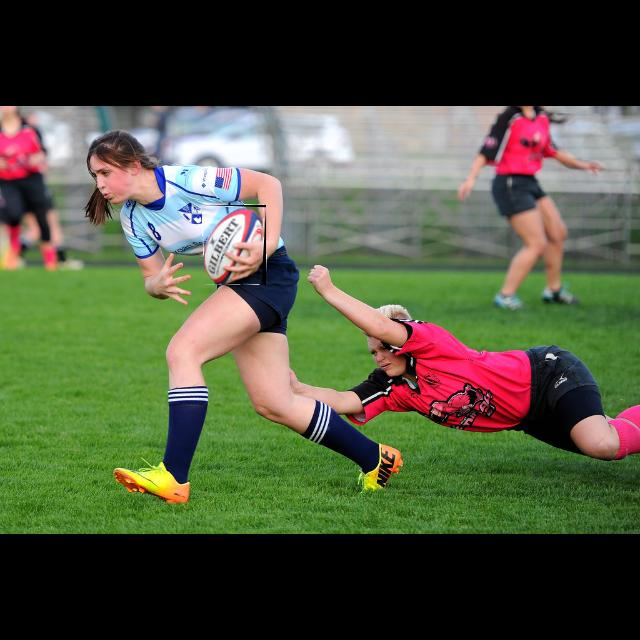Football: (204, 205, 266, 285)
